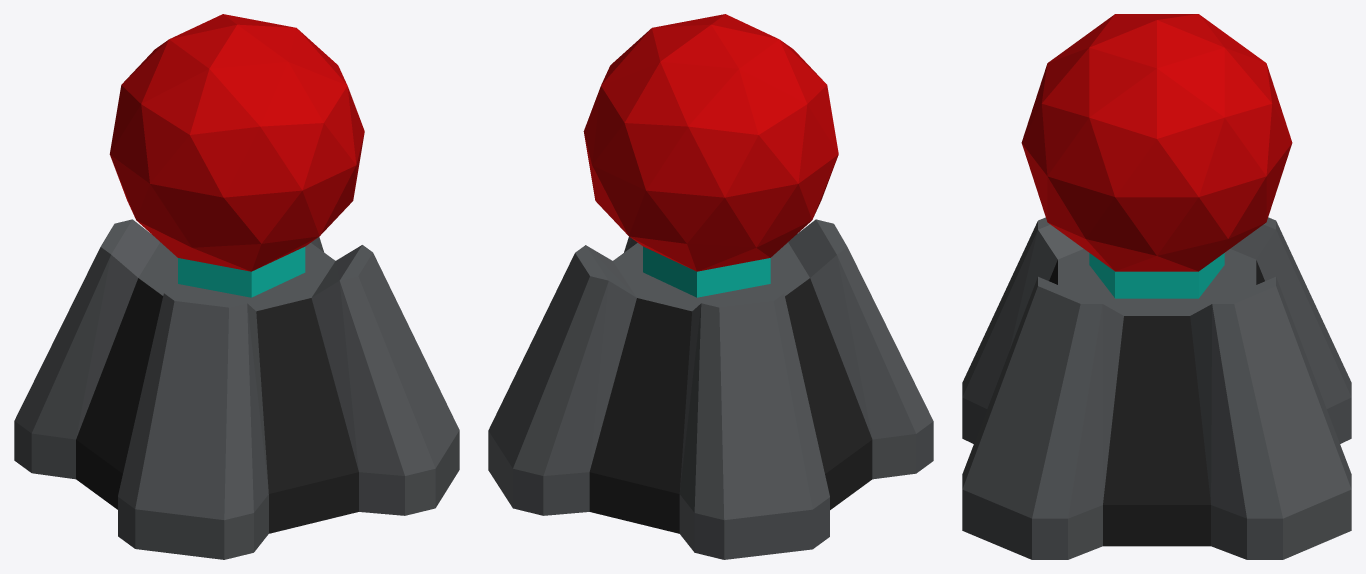
File: turret1.obj
3 views of the same model, side by side, from view 1: azimuth 30°, elevation 25°; view 2: azimuth 150°, elevation 25°; view 3: azimuth 270°, elevation 25° (orthographic). The views are drawn at different scales.
Parts seen in each view (by area): view 1: Cube, Icosphere; view 2: Cube, Icosphere; view 3: Cube, Icosphere.
Part boxes in pixels (x1,y1,x2,y2): Cube: (14, 219, 459, 559); Icosphere: (109, 14, 364, 297); Cube: (488, 219, 933, 559); Icosphere: (583, 14, 838, 297); Cube: (962, 217, 1351, 559); Icosphere: (1021, 14, 1292, 298).
Bounding box in the file's own units: 2.4 × 3.12 × 2.4.
